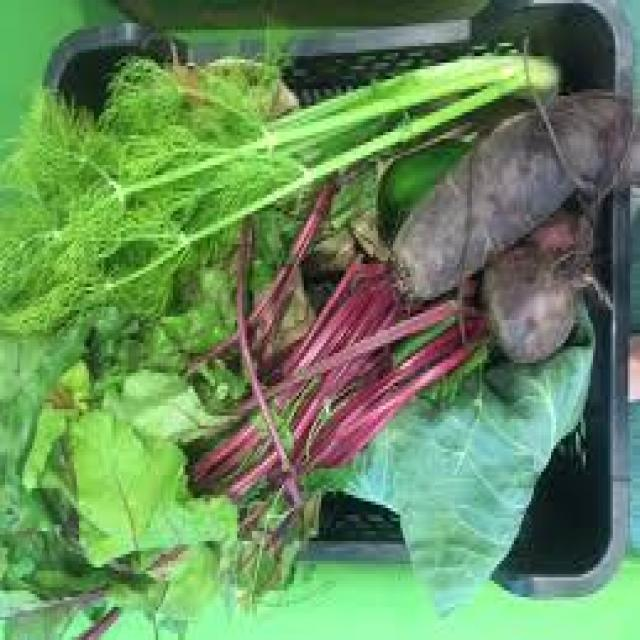organic waste: (0, 250, 487, 636), (0, 50, 561, 336), (326, 300, 591, 610), (386, 89, 630, 304), (163, 172, 339, 448), (72, 409, 237, 544), (262, 155, 378, 274), (479, 231, 574, 356), (376, 135, 474, 238), (20, 372, 101, 492), (118, 369, 230, 439), (524, 208, 590, 264)
